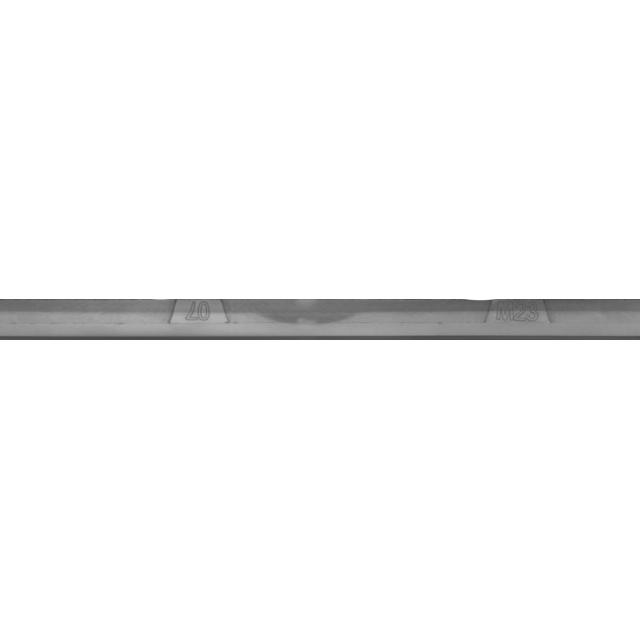mohao: (428, 270, 628, 370)
xuehao: (95, 270, 295, 370)
